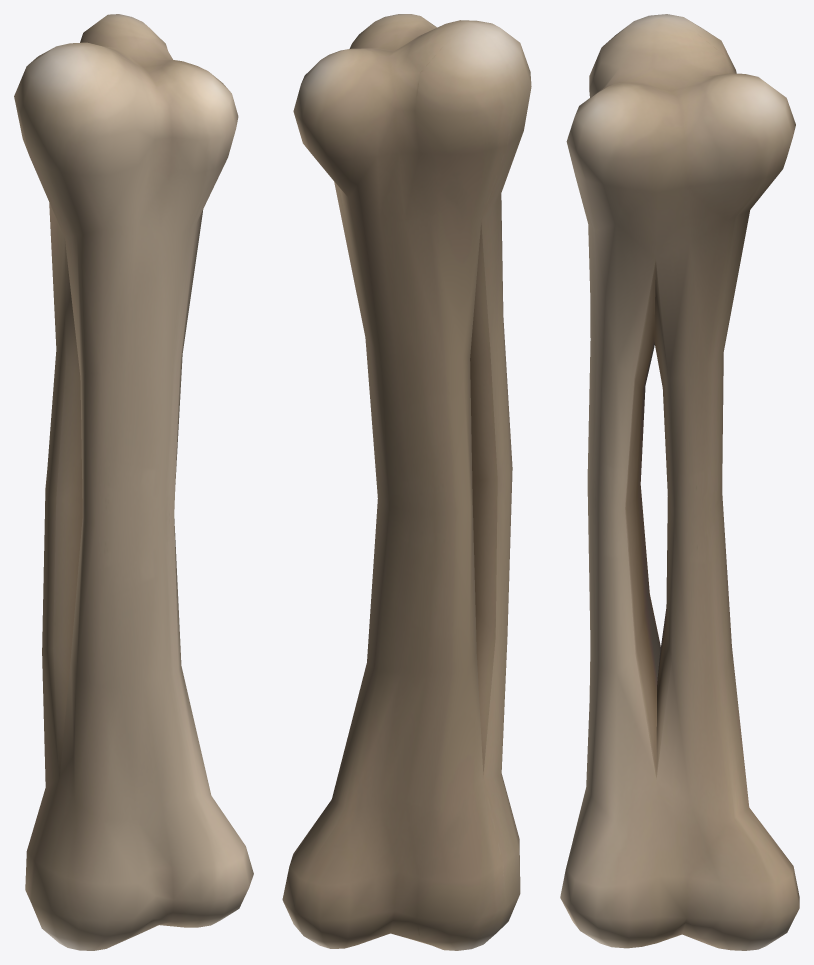
Rendered from DE_Bone_02.fbx.
3 views of the same model, side by side, from view 1: azimuth 30°, elevation 25°; view 2: azimuth 150°, elevation 25°; view 3: azimuth 270°, elevation 25° (orthographic). The views are drawn at different scales.
Visible parts, largest first — view 1: DE_Bone_02; view 2: DE_Bone_02; view 3: DE_Bone_02.
Boxes of the visible parts, x1=… form: DE_Bone_02: x1=14, y1=14, x2=253, y2=950; DE_Bone_02: x1=282, y1=14, x2=531, y2=950; DE_Bone_02: x1=560, y1=14, x2=799, y2=950.
Bounding box in the file's own units: 0.5058 × 2.23 × 0.5385.
